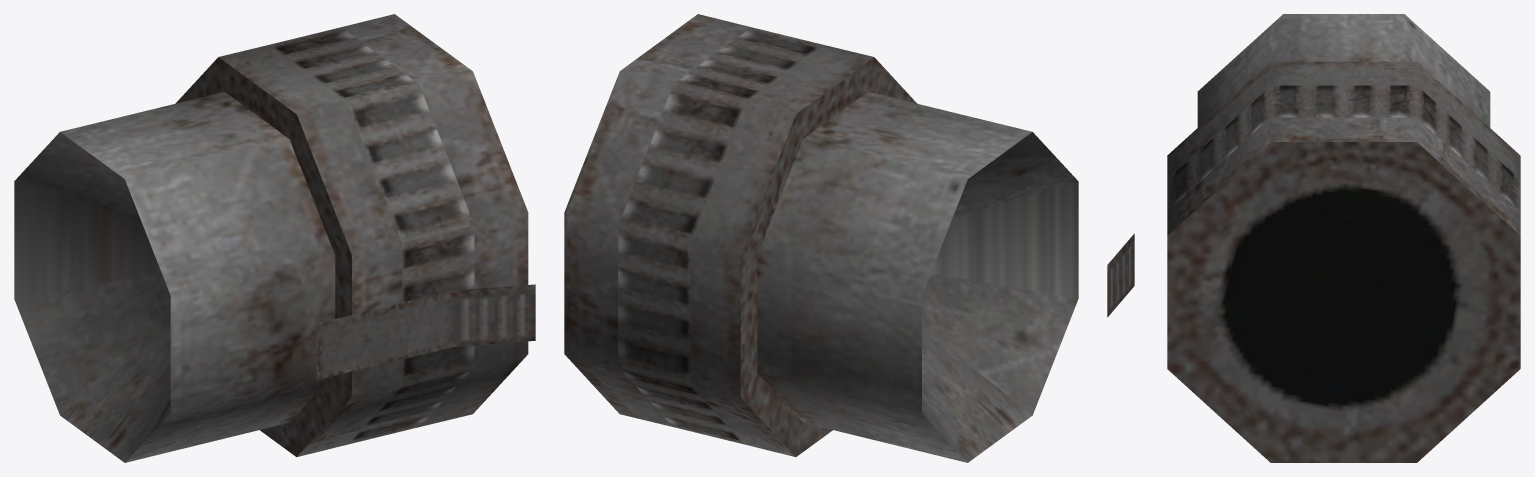
File: p_rus_hose_modular_connect_end_LOD2.obj
3 renders of one model, left to right at view 1: azimuth 30°, elevation 25°; view 2: azimuth 150°, elevation 25°; view 3: azimuth 270°, elevation 25°, orthographic. The views are drawn at different scales.
Visible parts, largest first — view 1: mtl_p_rus_hose_fitting_end; view 2: mtl_p_rus_hose_fitting_end; view 3: mtl_p_rus_hose_fitting_end.
Part boxes in pixels (x1,y1,x2,y2): mtl_p_rus_hose_fitting_end: (14, 14, 535, 462); mtl_p_rus_hose_fitting_end: (564, 14, 1078, 462); mtl_p_rus_hose_fitting_end: (1107, 14, 1520, 462).
Bounding box in the file's own units: 27.91 × 26.8 × 31.27.
